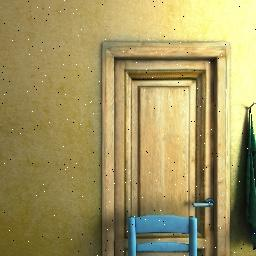door: (103, 39, 230, 256)
